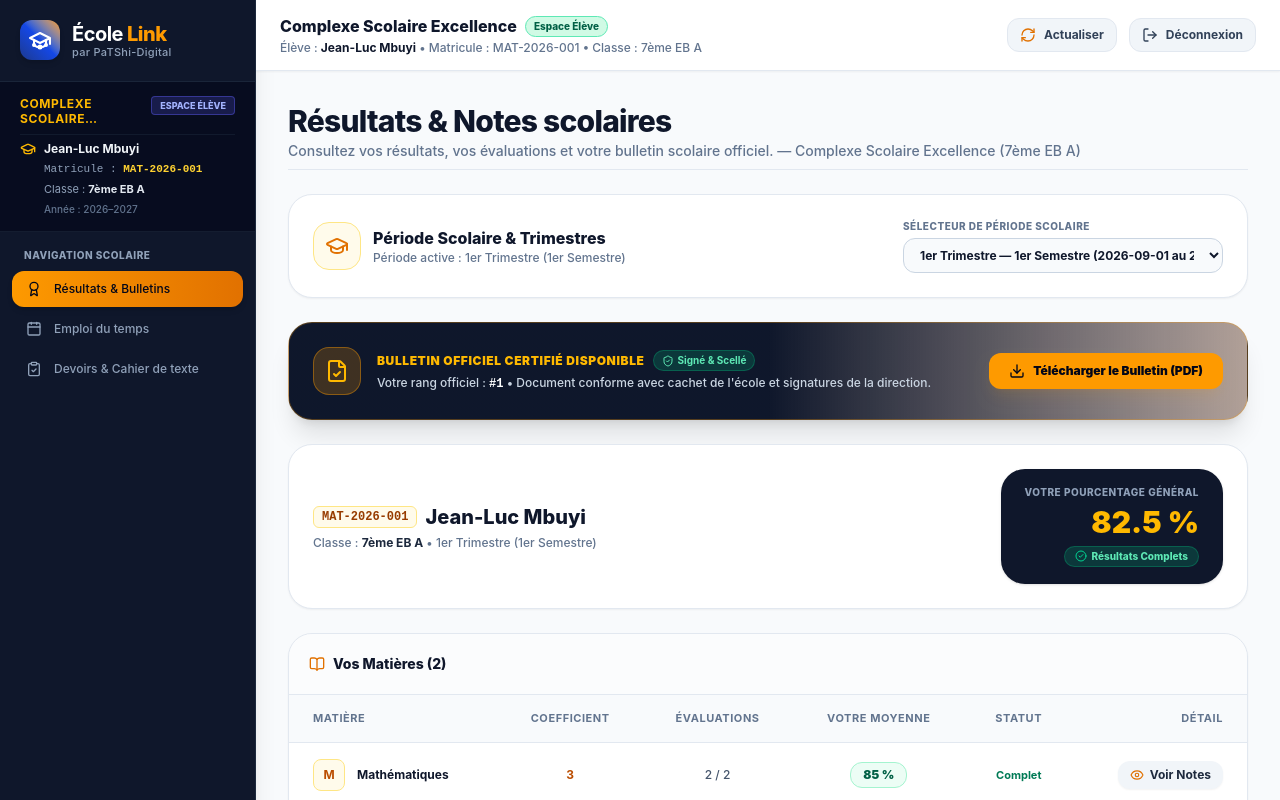
Scenario: RealStudentPortal — Lot 2K-T5 (Validation Visuelle & Sécurité Élève) › 6. Ouvre la modale de détail des notes au clic sur "Voir Notes"
This screenshot has width=1280, height=800.
Expected: the text "Mathématiques" is shown, top-left (357, 767), bottom-right (449, 783)
Click the button "Voir Notes" at coordinates (1170, 775), box top-left (1118, 761), bottom-right (1223, 789)
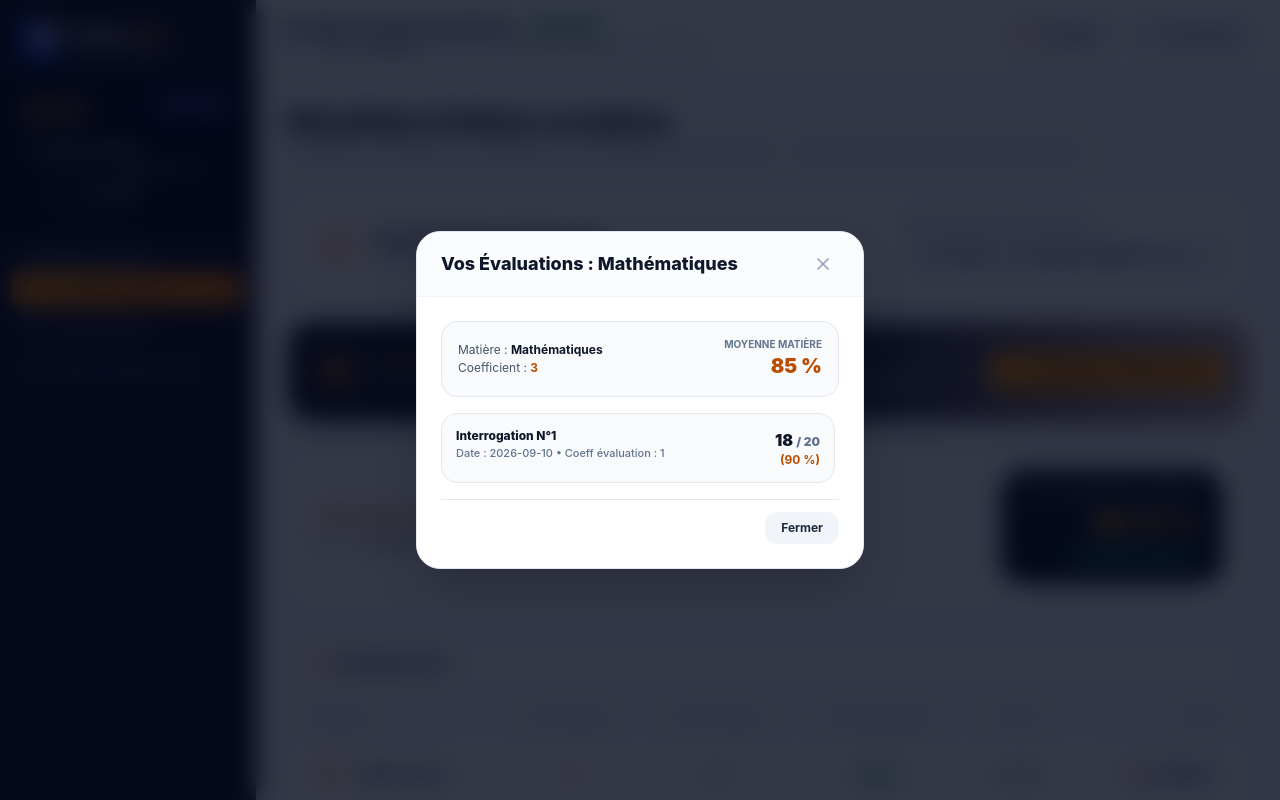
Now the heading "Vos Évaluations : Mathématiques" is shown, box top-left (441, 250), bottom-right (738, 278)
Now the text "Interrogation N°1" is shown, box top-left (456, 428), bottom-right (556, 443)
Now the text "18 / 20" is shown, box top-left (775, 430), bottom-right (820, 450)
